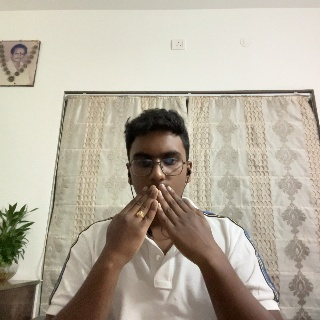Thank You: (105, 184, 222, 261)
